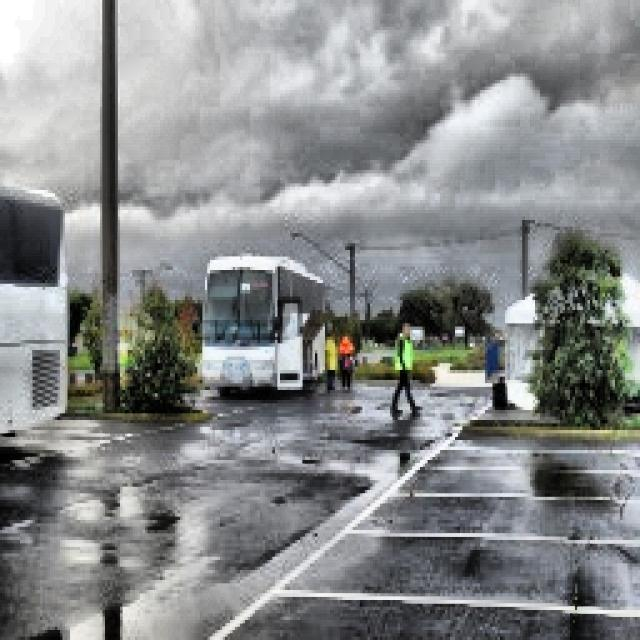carro: (202, 257, 328, 393)
